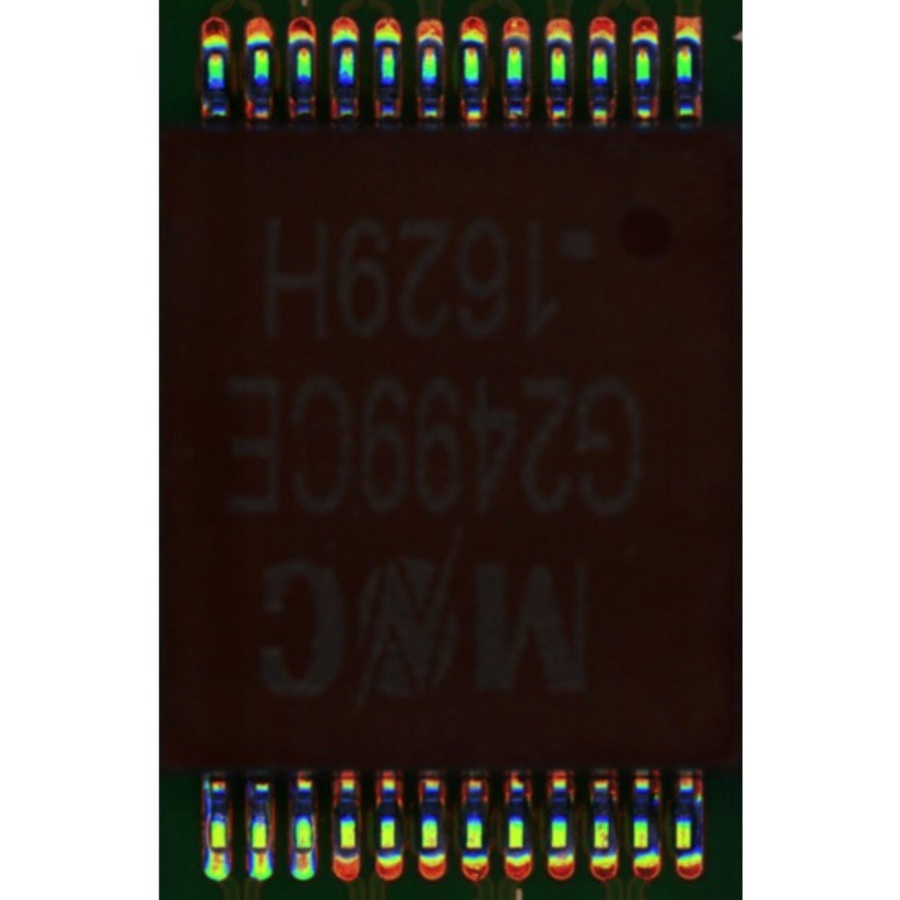Bad_podu: (251, 843, 267, 863), (294, 844, 312, 860), (211, 841, 226, 859)
Bad_qiaojiao: (204, 780, 212, 852)
